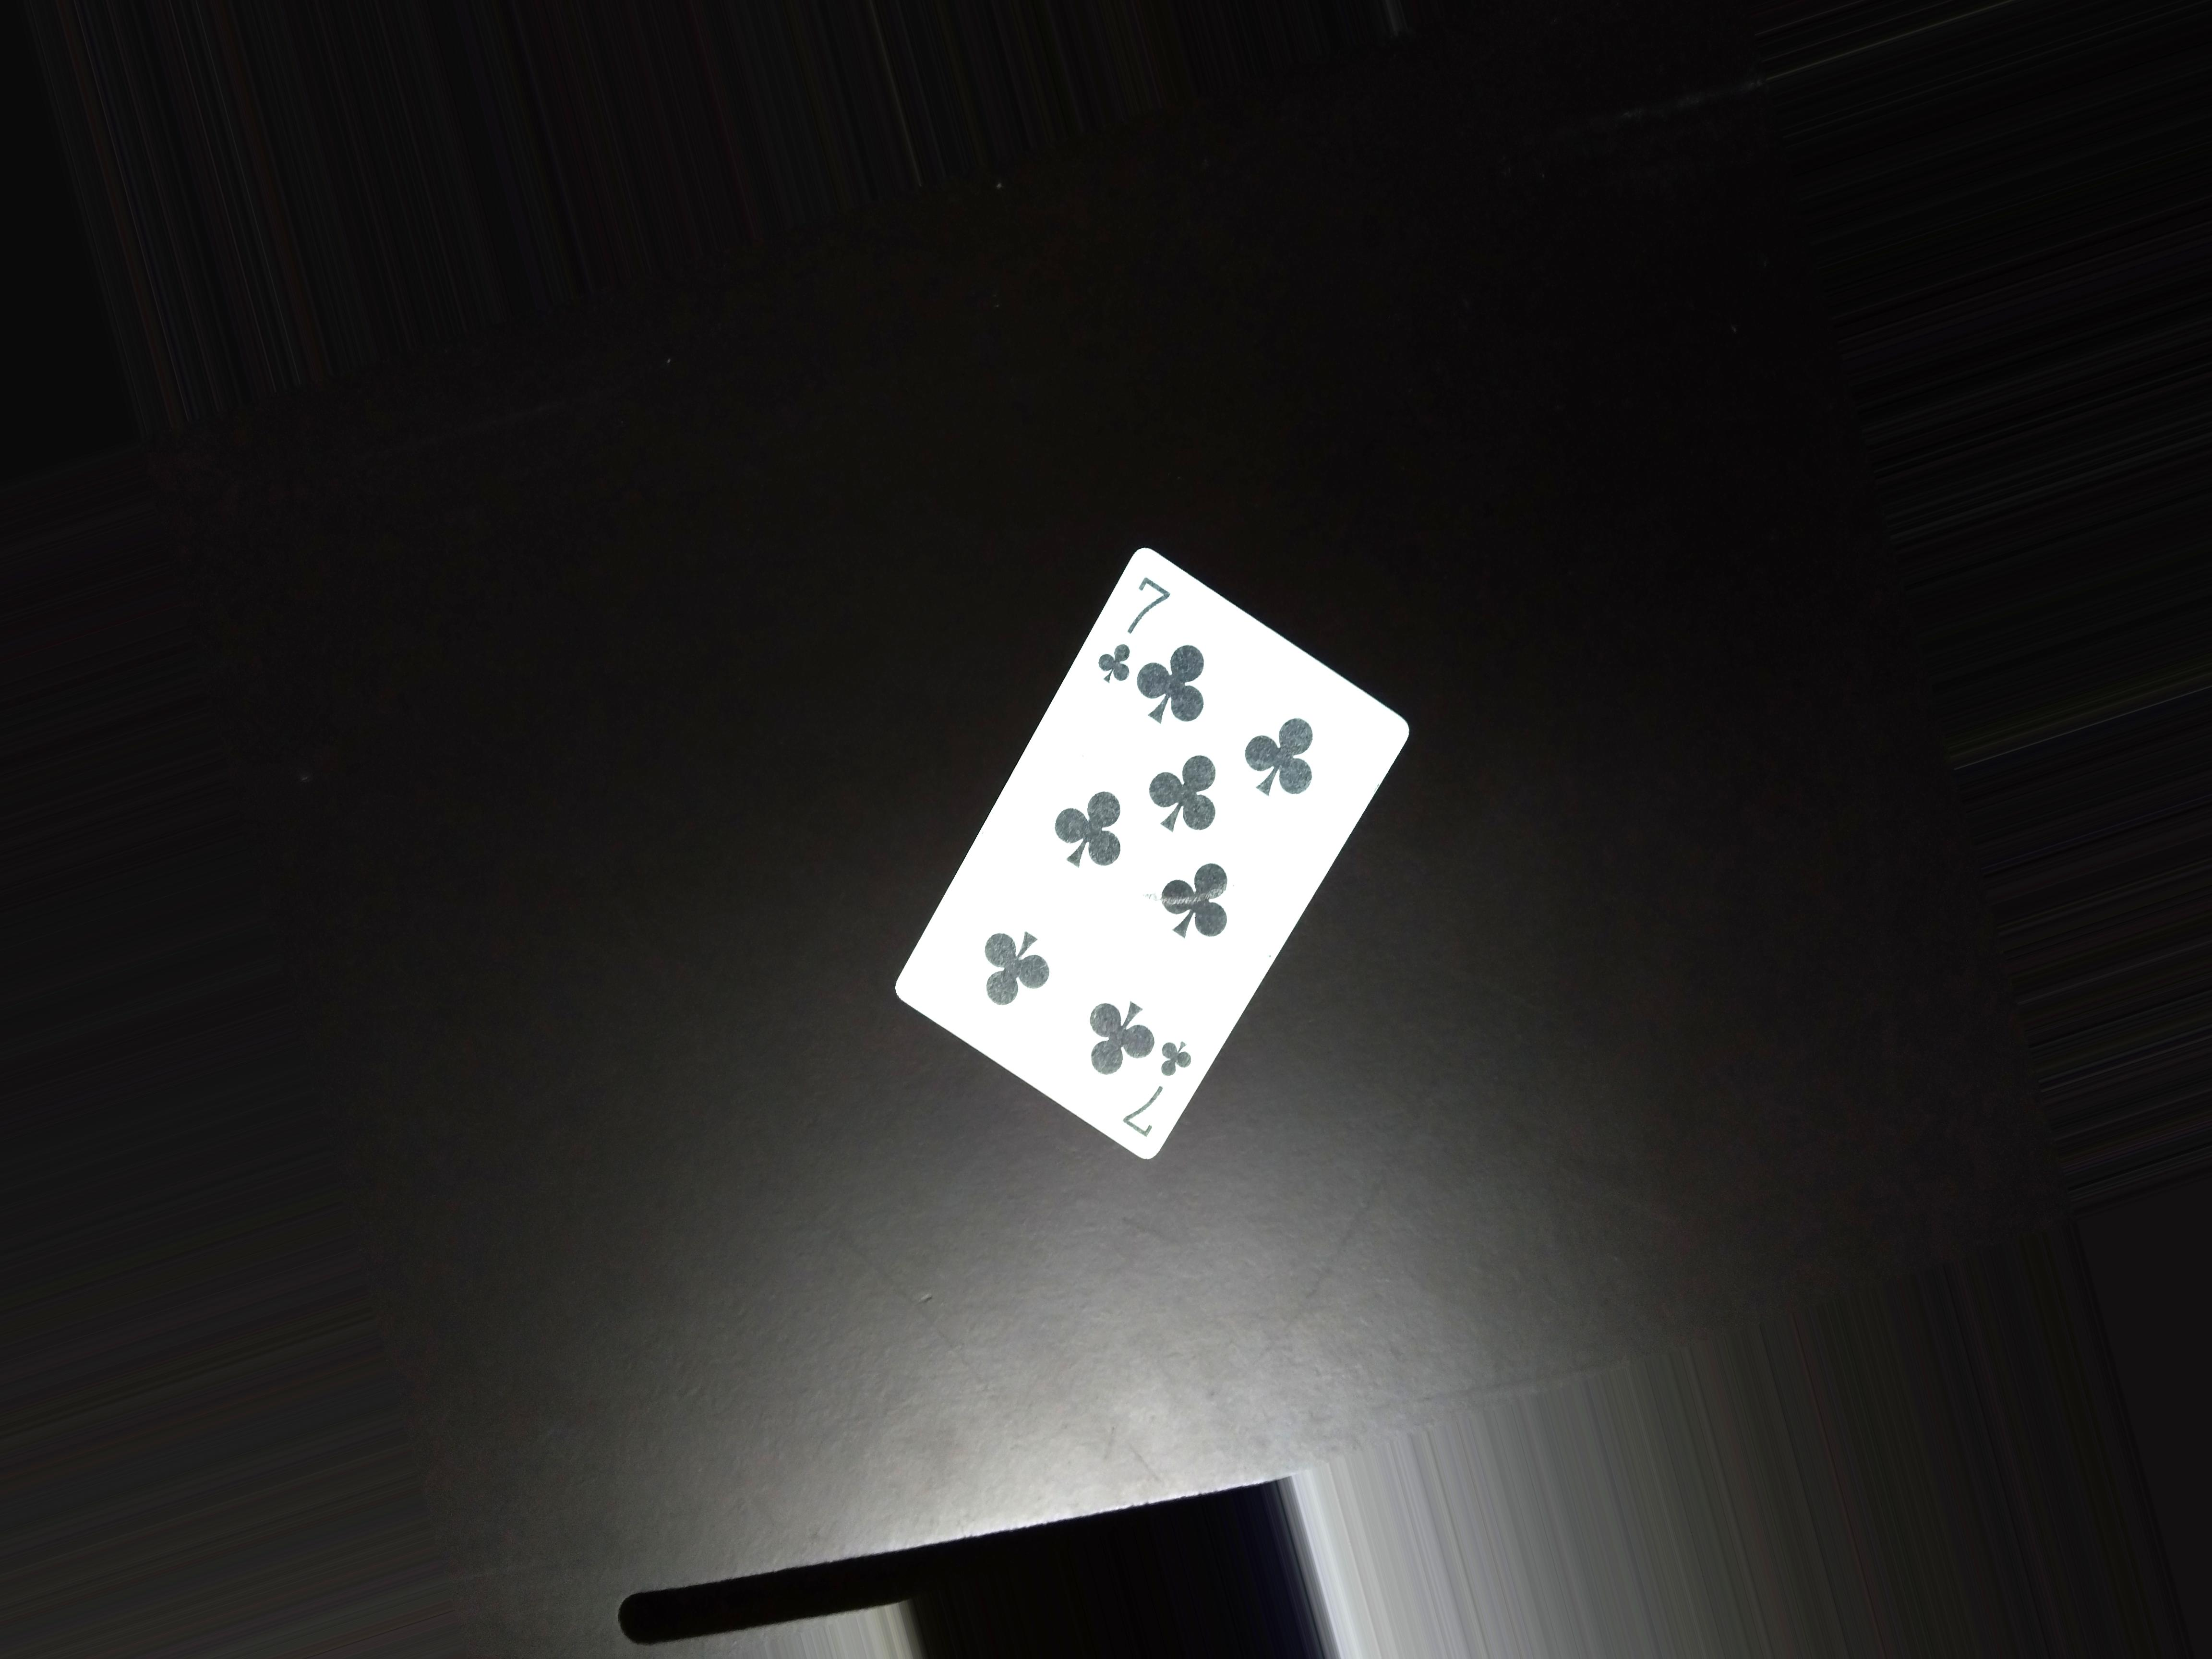7C: (1097, 551, 1186, 701)
